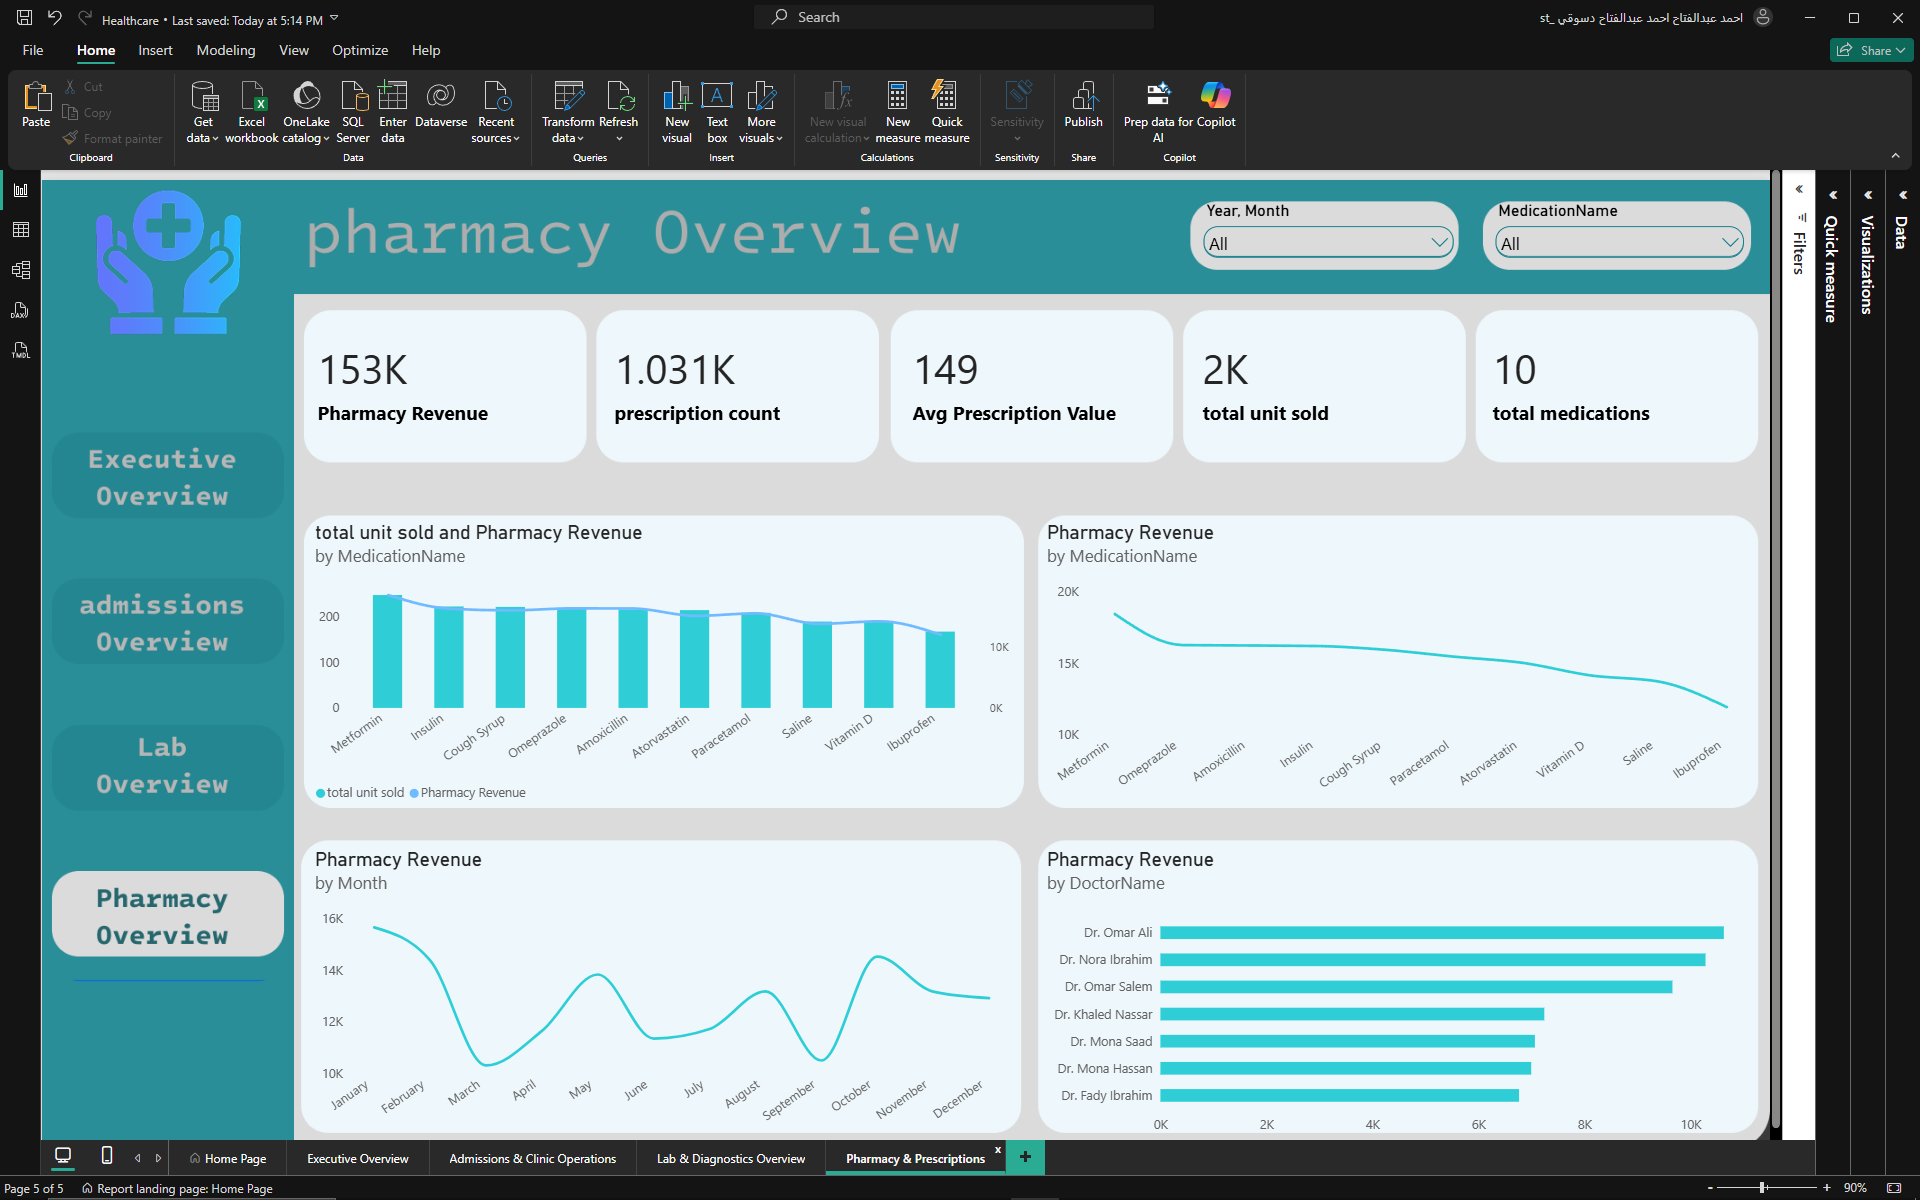

The dashboard page shown, as its layout file describes it:
{"tool":"powerbi","page":{"name":"Pharmacy & Prescriptions","canvas":[1920,1080],"ordinal":3},"visuals":[{"type":"cardVisual","fields":{"Data":["Dax_measures.total prescription"]},"box":[290.2,140.5,314,172.3],"z":0},{"type":"cardVisual","fields":{"Data":["Dax_measures.Avg Prescription Value"]},"box":[951.4,140.5,304.8,172.3],"z":1000},{"type":"cardVisual","fields":{"Data":["Dax_measures.total unit solid"]},"box":[1273.4,140.5,307.4,172.3],"z":2000},{"type":"cardVisual","fields":{"Data":["Dax_measures.total medications"]},"box":[1595.4,140.5,307.4,172.3],"z":3000},{"type":"cardVisual","fields":{"Data":["Dax_measures.perscription count"]},"box":[620.1,140.5,308.7,172.3],"z":4000},{"type":"lineClusteredColumnComboChart","title":"total unit sold & Pharmacy Revenue by Medication Name","fields":{"Category":["fact_prescription.MedicationName"],"Y":["Dax_measures.total unit solid"],"Y2":["Dax_measures.Pharmasy Revenue"]},"box":[303.4,379,773.8,316.7],"z":5000},{"type":"donutChart","fields":{"Category":["dim_patients.Gender"],"Y":["Dax_measures.Pharmacy Revenue"]},"box":[1117,379,785.8,316.7],"z":6000},{"type":"lineChart","fields":{"Category":["DimDate.Date.Variation.Date Hierarchy.Month"],"Y":["Dax_measures.Pharmasy Revenue"]},"box":[303.4,742,773.8,322],"z":7000},{"type":"barChart","title":"Pharmacy Revenue by Doctor Name","fields":{"Category":["dim_doctors.DoctorName"],"Y":["Dax_measures.Pharmasy Revenue"]},"box":[1117,742,785.8,322],"z":8000},{"type":"pageNavigator","box":[10.1,247,262.9,645.8],"z":9000},{"type":"slicer","fields":{"Values":["DimDate.Year","DimDate.Month"]},"box":[1285.8,23.7,287.8,79.1],"z":10000},{"type":"slicer","fields":{"Values":["fact_prescription.MedicationName"]},"box":[1610,23.7,286.3,79.1],"z":11000},{"type":"image","box":[477.9,164.9,142,122.8],"z":11001},{"type":"image","box":[1427.7,160.1,167.3,116.8],"z":11002},{"type":"image","box":[1768.3,151.7,134.8,125.2],"z":11003},{"type":"image","box":[1136.4,144.5,119.2,121.6],"z":11004},{"type":"image","box":[805.3,133.6,122.8,179.4],"z":11005}]}

Visuals, with their boxes on the page's 1920x1080 design canvas (x1, y1, x2, y2). These are canvas units, not pixel positions in the 1920x1200 screenshot, which may show the page scaled, cropped or inside an application window:
cardVisual - Dax_measures.total prescription: bbox=(290, 140, 604, 313)
cardVisual - Dax_measures.Avg Prescription Value: bbox=(951, 140, 1256, 313)
cardVisual - Dax_measures.total unit solid: bbox=(1273, 140, 1581, 313)
cardVisual - Dax_measures.total medications: bbox=(1595, 140, 1903, 313)
cardVisual - Dax_measures.perscription count: bbox=(620, 140, 929, 313)
"total unit sold & Pharmacy Revenue by Medication Name" lineClusteredColumnComboChart: bbox=(303, 379, 1077, 696)
donutChart - dim_patients.Gender x Dax_measures.Pharmacy Revenue: bbox=(1117, 379, 1903, 696)
lineChart - DimDate.Date.Variation.Date Hierarchy.Month x Dax_measures.Pharmasy Revenue: bbox=(303, 742, 1077, 1064)
"Pharmacy Revenue by Doctor Name" barChart: bbox=(1117, 742, 1903, 1064)
pageNavigator: bbox=(10, 247, 273, 893)
slicer - DimDate.Year x DimDate.Month: bbox=(1286, 24, 1574, 103)
slicer - fact_prescription.MedicationName: bbox=(1610, 24, 1896, 103)
image: bbox=(478, 165, 620, 288)
image: bbox=(1428, 160, 1595, 277)
image: bbox=(1768, 152, 1903, 277)
image: bbox=(1136, 144, 1256, 266)
image: bbox=(805, 134, 928, 313)
